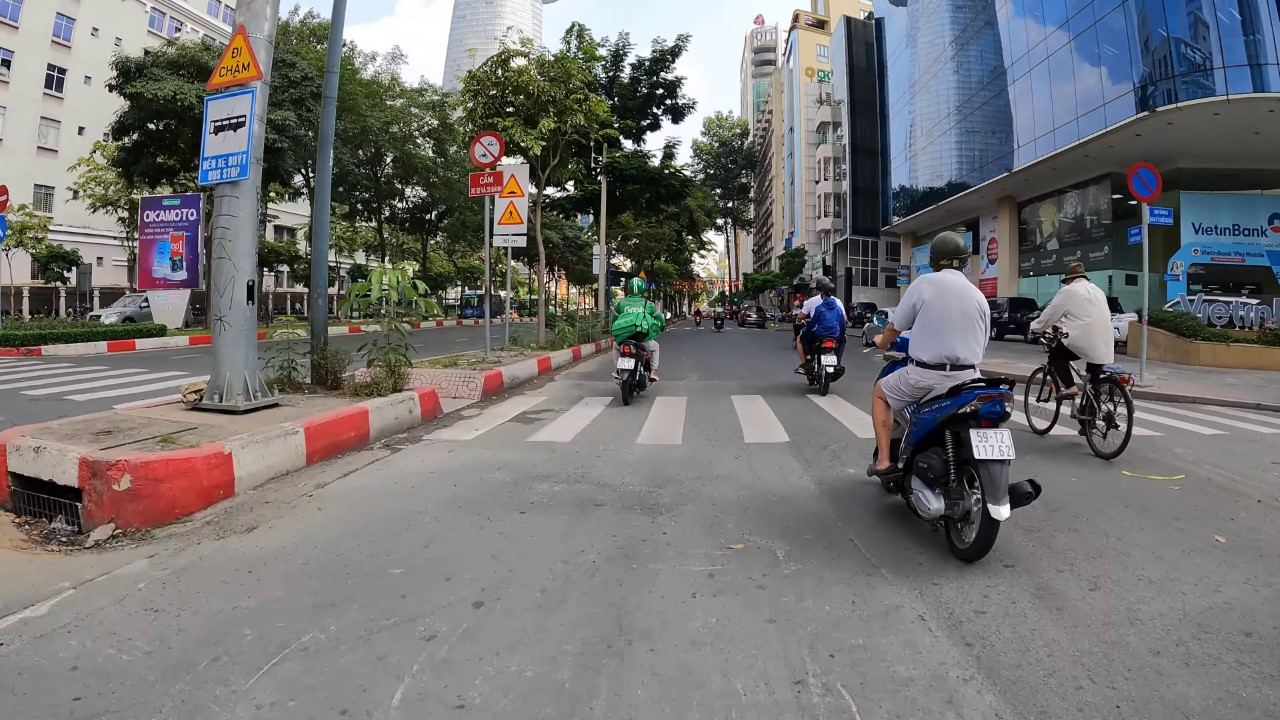cam_do_xe: (1122, 157, 1166, 207)
can_than_nguoi_qua_duong: (495, 199, 526, 231)
di_cham: (197, 20, 263, 95)
